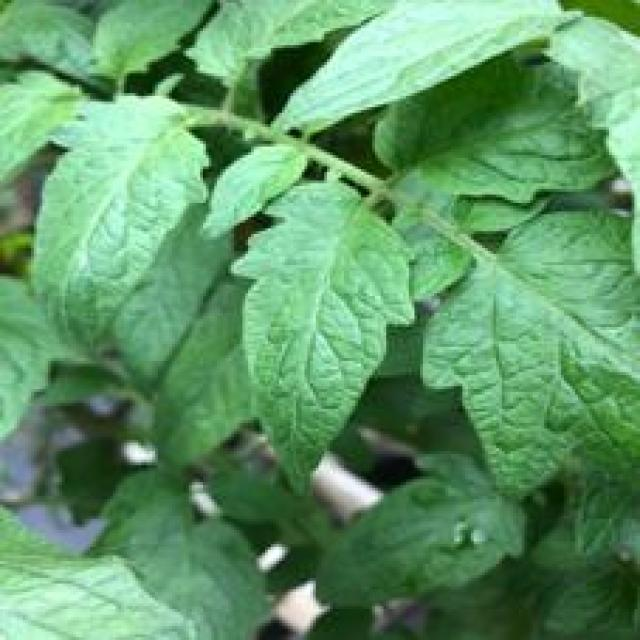Healthy Leaf: (423, 219, 640, 572), (234, 178, 416, 498), (30, 98, 214, 366), (267, 0, 582, 131), (380, 56, 625, 208), (196, 139, 312, 239), (93, 0, 214, 78)
